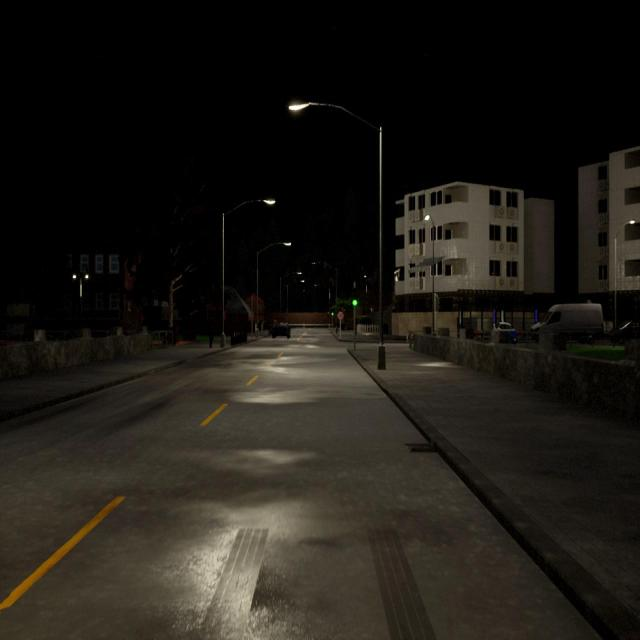Pedestrian: (206, 312, 217, 349)
Traffic_Signs: (337, 311, 344, 319)
Vehicle: (528, 302, 605, 344), (609, 315, 640, 340), (487, 322, 516, 346), (271, 322, 291, 338)
traffic_light: (352, 287, 358, 308), (436, 297, 440, 311), (331, 309, 334, 316), (328, 311, 329, 317)
